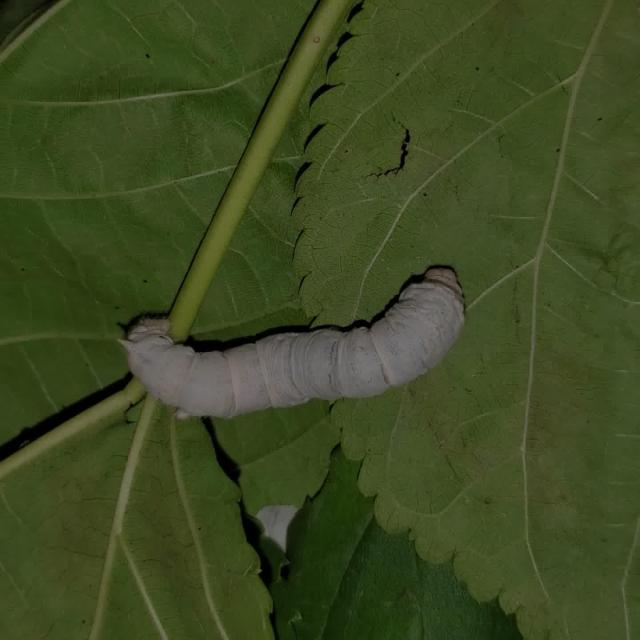Healthy: (101, 234, 487, 441)
